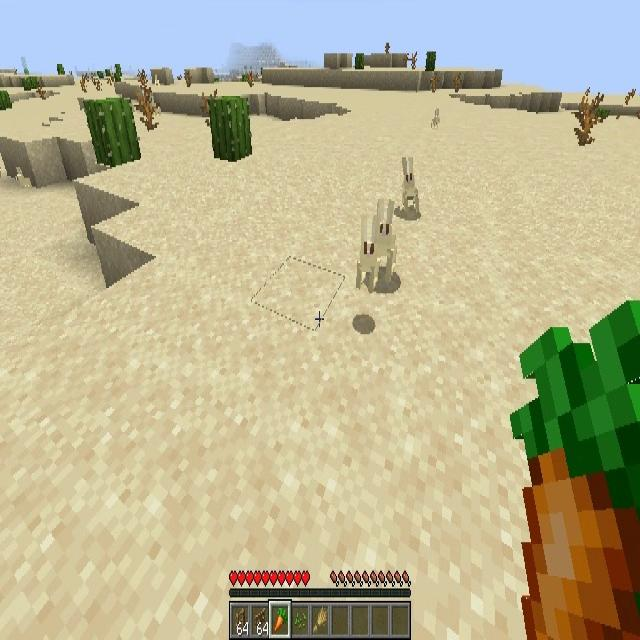rabbit: (363, 204, 399, 288), (400, 158, 419, 214), (15, 165, 31, 191), (430, 108, 442, 132)
